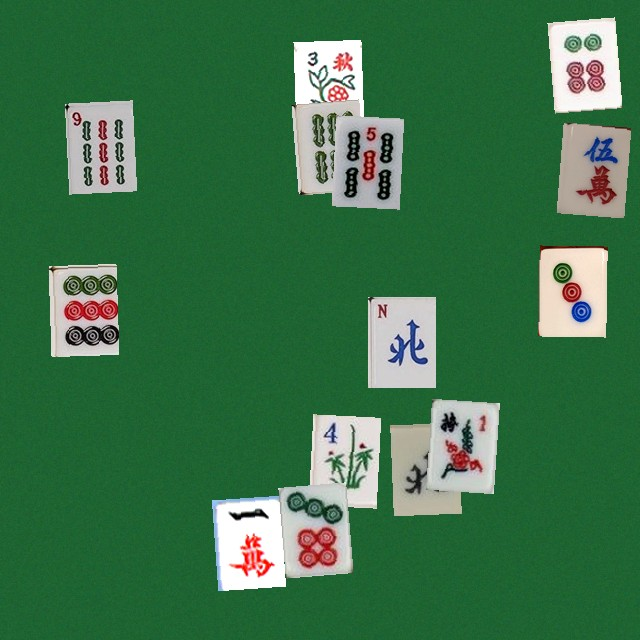tile: (367, 296, 435, 387), (547, 17, 615, 108), (390, 422, 458, 513), (426, 398, 494, 489), (293, 39, 361, 130), (291, 99, 359, 190), (331, 115, 399, 206), (538, 245, 606, 336), (308, 414, 376, 505), (48, 263, 116, 354), (211, 495, 279, 586), (64, 100, 132, 191), (556, 122, 624, 213), (278, 482, 346, 573)
